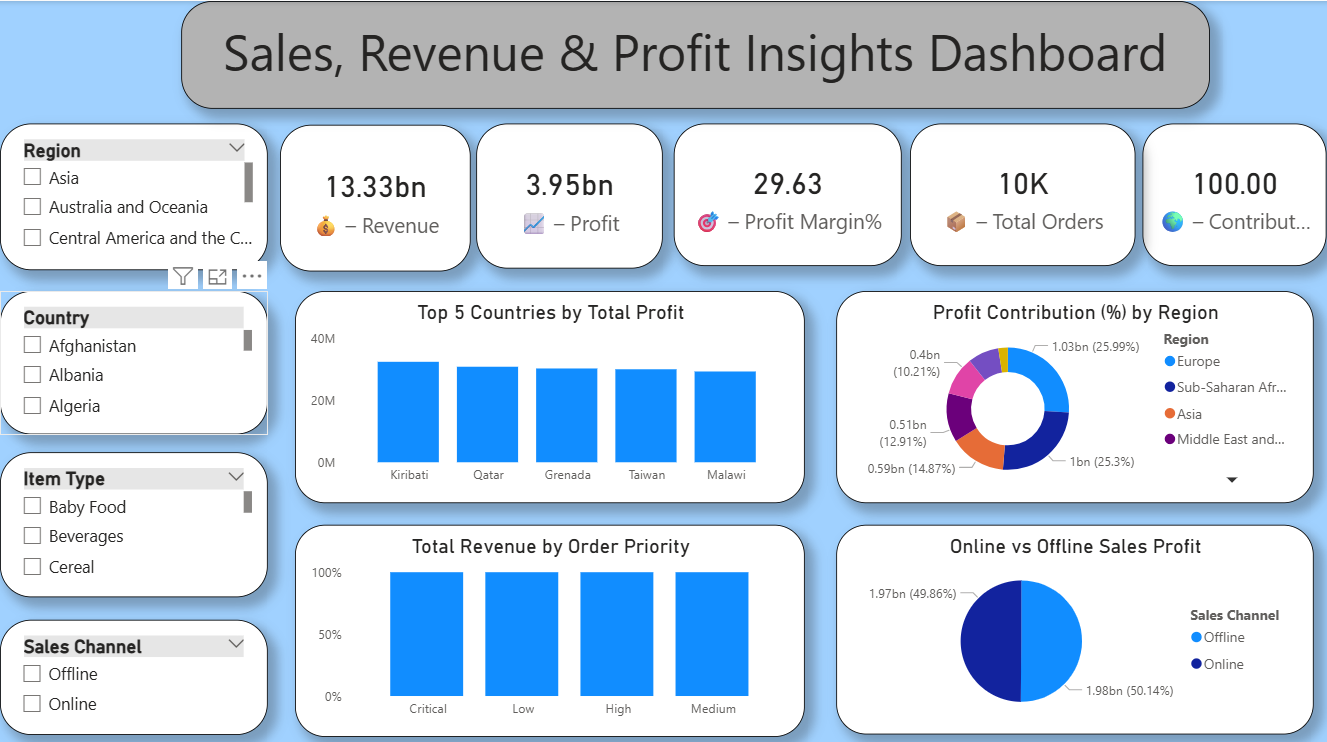

What the dashboard file says about the page in this screenshot:
{"tool":"powerbi","page":{"name":"Page 1","canvas":[1280,720],"ordinal":0},"visuals":[{"type":"clusteredColumnChart","title":"Top 5 Countries by Total Profit","fields":{"Y":["sales_new.Total Profit"],"Category":["sales_new.Country"]},"box":[284.7,279.9,492.2,205.1],"z":0},{"type":"donutChart","title":"Profit Contribution (%) by Region","fields":{"Category":["sales_new.ï»¿Region"],"Y":["sales_new.Total Profit"]},"box":[807.1,279.9,460.9,205.1],"z":1000},{"type":"hundredPercentStackedColumnChart","title":"Total Revenue by Order Priority","fields":{"Category":["sales_new.Order_Priority"],"Y":["sales_new.Total Revenue"]},"box":[284.7,505.5,492.2,205.1],"z":2000},{"type":"slicer","fields":{"Values":["sales_new.Region"]},"box":[0,118.8,258.8,141.2],"z":3000},{"type":"slicer","fields":{"Values":["sales_new.Country"]},"box":[0,279.9,258.2,138.7],"z":4000},{"type":"slicer","fields":{"Values":["sales_new.Item_Type"]},"box":[0,435.5,258.2,139.9],"z":5000},{"type":"slicer","fields":{"Values":["sales_new.Sales_Channel"]},"box":[0,597.2,258.2,111],"z":6000},{"type":"card","fields":{"Values":["sales_new.Total Revenue"]},"box":[270,120,183.8,141.2],"z":7000},{"type":"card","fields":{"Values":["sales_new.Total Profit"]},"box":[460,118.8,180,140],"z":8000},{"type":"card","fields":{"Values":["sales_new.Profit Margin %"]},"box":[650,118.8,220,137.5],"z":9000},{"type":"card","fields":{"Values":["sales_new.Profit Contribution %"]},"box":[1102.5,118.8,177.5,137.5],"z":10000},{"type":"card","fields":{"Values":["sales_new.Total Orders"]},"box":[878.8,118.8,217.5,137.5],"z":11000},{"type":"pieChart","title":"Online vs Offline Sales Profit","fields":{"Category":["sales_new.Sales_Channel"],"Y":["sales_new.Total Profit"]},"box":[807.1,505.5,460.9,202.7],"z":12000},{"type":"textbox","box":[175,0,992.5,103.8],"z":12001}]}

Visuals, with their boxes in screenshot pixels (x1, y1, x2, y2), scaled from the page's 1280x720 canvas onto the 1327x742 screenshot:
"Top 5 Countries by Total Profit" clusteredColumnChart: (295,288,805,500)
"Profit Contribution (%) by Region" donutChart: (837,288,1315,500)
"Total Revenue by Order Priority" hundredPercentStackedColumnChart: (295,521,805,732)
slicer - sales_new.Region: (0,122,268,268)
slicer - sales_new.Country: (0,288,268,431)
slicer - sales_new.Item_Type: (0,449,268,593)
slicer - sales_new.Sales_Channel: (0,615,268,730)
card - sales_new.Total Revenue: (280,124,470,269)
card - sales_new.Total Profit: (477,122,664,267)
card - sales_new.Profit Margin %: (674,122,902,264)
card - sales_new.Profit Contribution %: (1143,122,1326,264)
card - sales_new.Total Orders: (911,122,1137,264)
"Online vs Offline Sales Profit" pieChart: (837,521,1315,730)
textbox: (181,0,1210,107)
